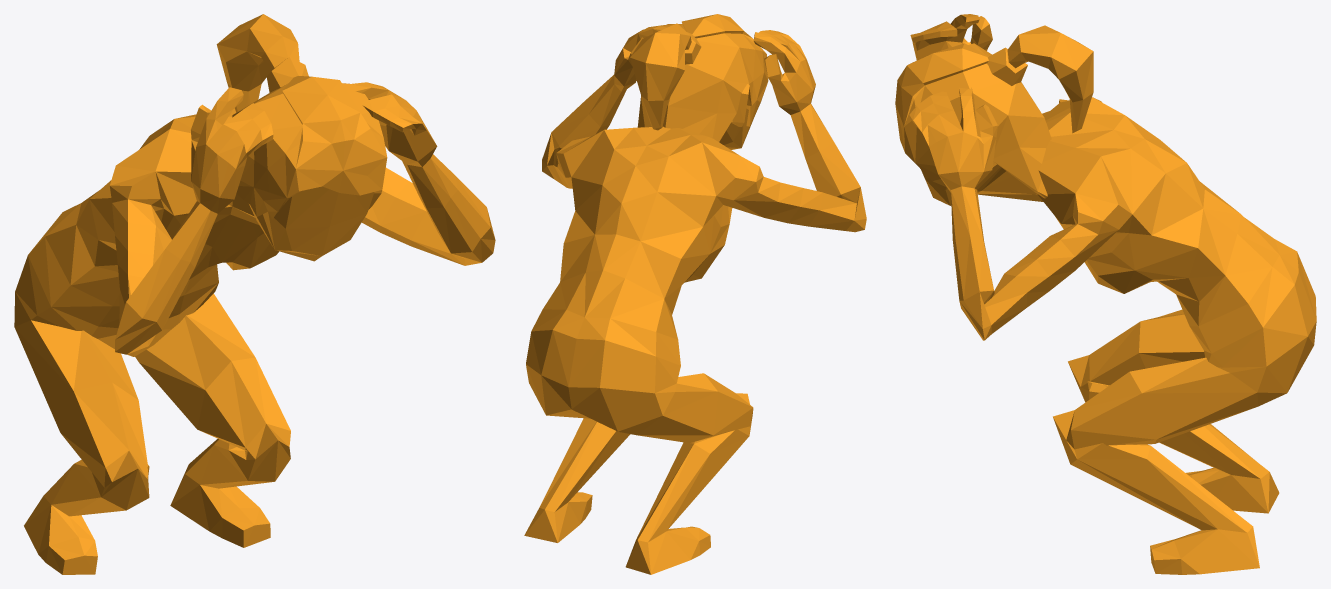
File: SM_Pawn_Cower_Female_01.fbx
The picture shows the model from 3 angles, left to right: view 1: azimuth 30°, elevation 25°; view 2: azimuth 150°, elevation 25°; view 3: azimuth 270°, elevation 25°; orthographic projection. The views are drawn at different scales.
Parts seen in each view (by area): view 1: SM_Pawn_Cower_Female_01; view 2: SM_Pawn_Cower_Female_01; view 3: SM_Pawn_Cower_Female_01.
Boxes of the visible parts, x1=… form: SM_Pawn_Cower_Female_01: x1=14, y1=14, x2=495, y2=574; SM_Pawn_Cower_Female_01: x1=524, y1=14, x2=866, y2=574; SM_Pawn_Cower_Female_01: x1=895, y1=14, x2=1316, y2=574.
Size of the model in its own units: 81.65 by 114 by 84.07.
